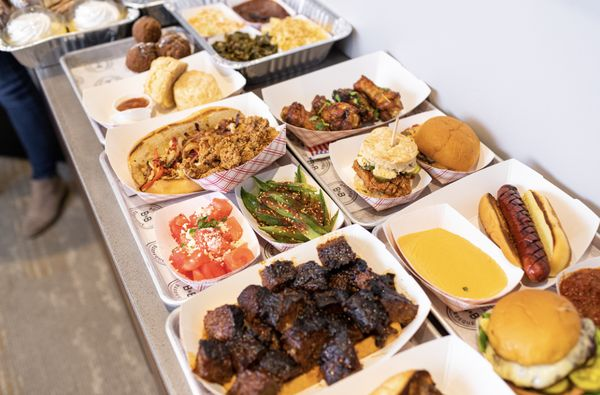soup: (477, 287, 594, 390), (348, 124, 424, 210), (410, 115, 482, 176)
sushi: (165, 224, 431, 392), (125, 93, 286, 197), (164, 1, 354, 83), (375, 203, 518, 311)
